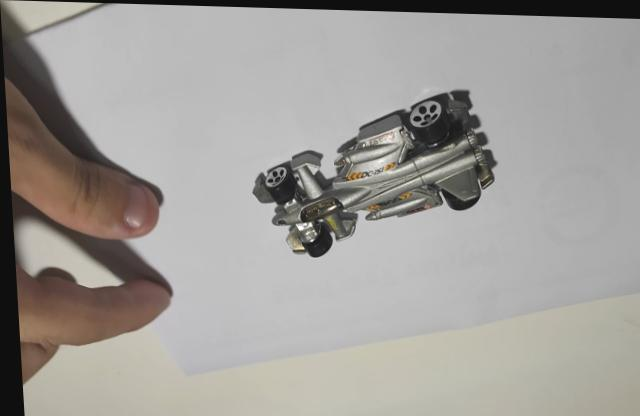05_DC121: (250, 84, 496, 255)
